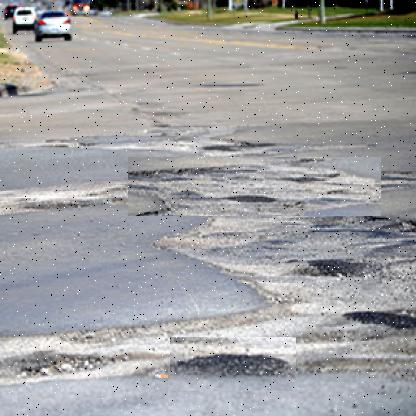damage: (127, 157, 381, 217)
pothole: (1, 325, 132, 395), (169, 337, 296, 392), (276, 238, 390, 290)
